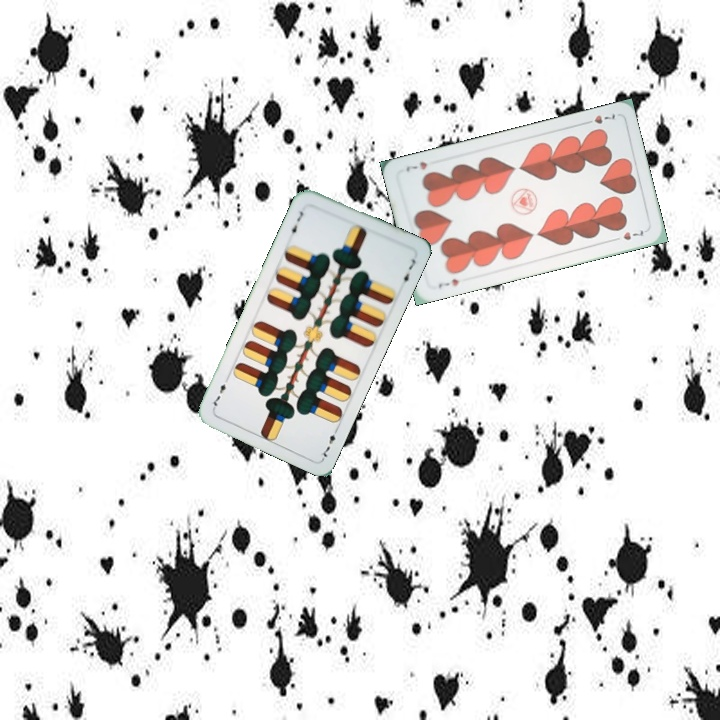E7: (316, 423, 341, 461), (285, 207, 306, 239)
H7: (579, 109, 618, 127), (434, 275, 461, 291)
